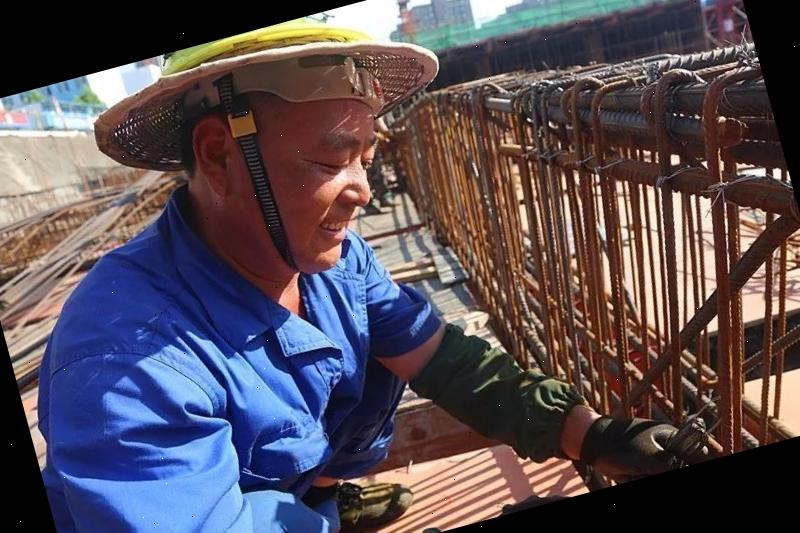wear: (47, 248, 419, 533)
